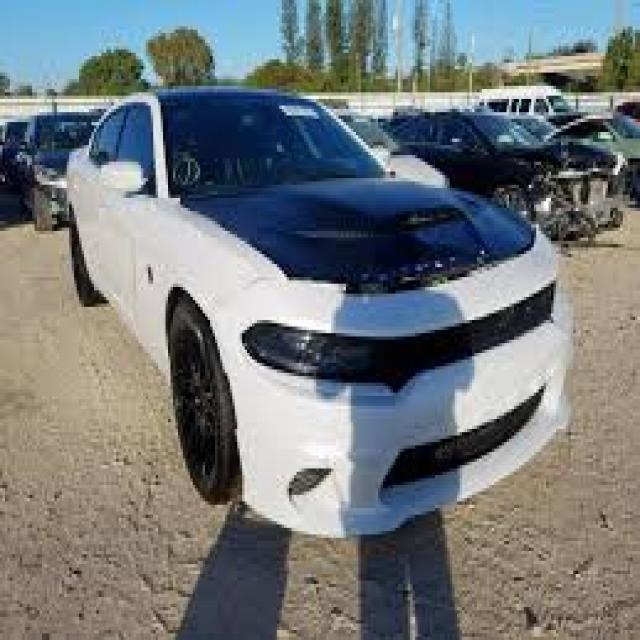minor: (324, 215, 543, 303)
